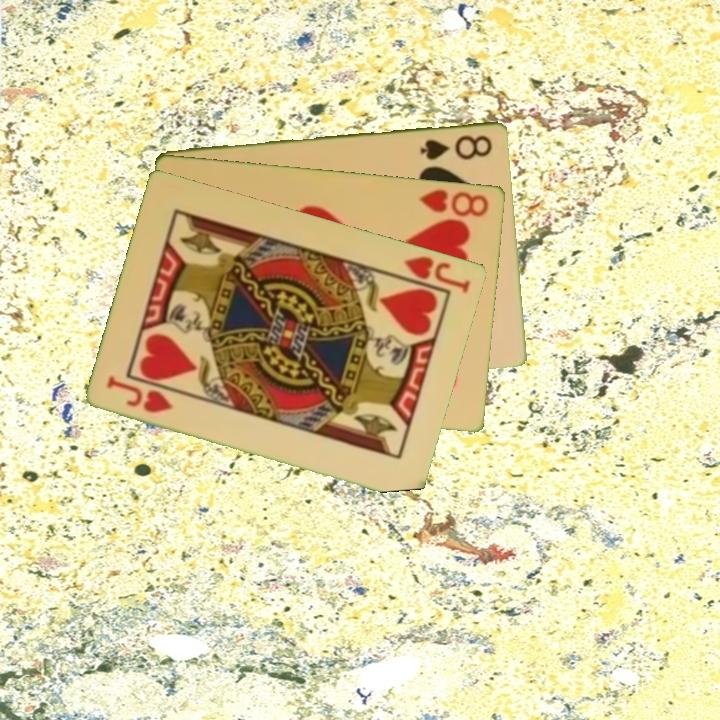8h: (415, 185, 492, 219)
8s: (417, 131, 495, 162)
Jh: (389, 252, 474, 297), (103, 373, 176, 416)
